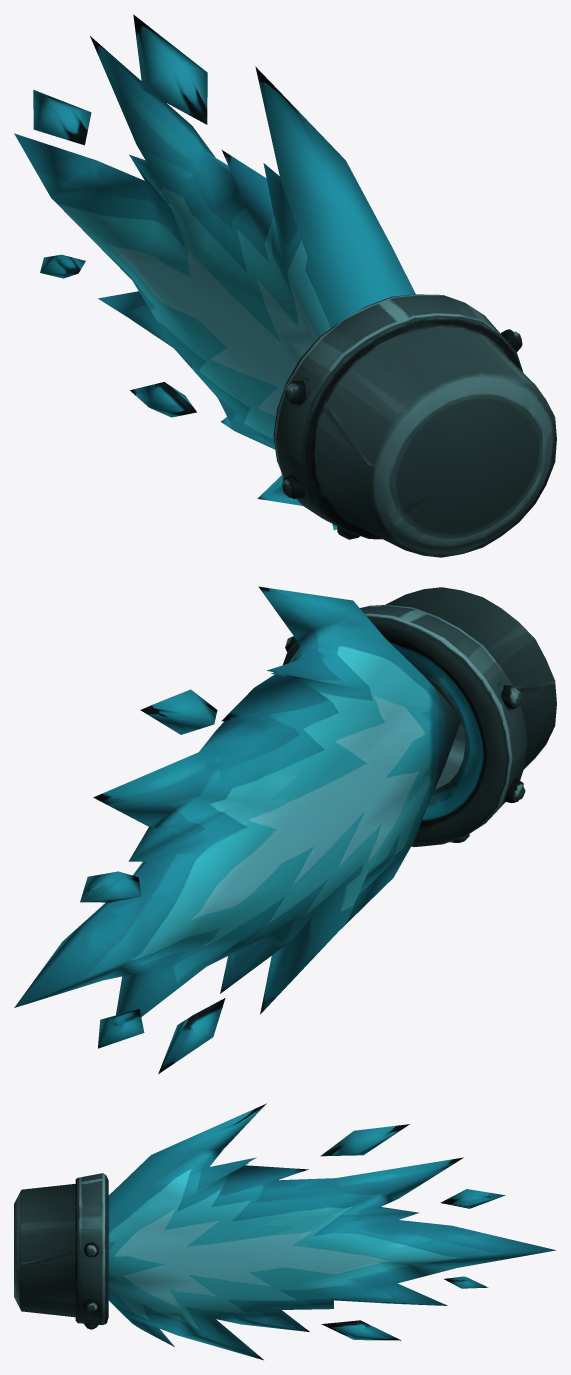
Rendered from nitro-cyan-b.glb.
3 renders of one model, top to bottom at view 1: azimuth 30°, elevation 25°; view 2: azimuth 150°, elevation 25°; view 3: azimuth 270°, elevation 25°, orthographic. The views are drawn at different scales.
Visible parts, largest first — view 1: tripo_node_f06f2010-b949-42cc-b337-643b00369439; view 2: tripo_node_f06f2010-b949-42cc-b337-643b00369439; view 3: tripo_node_f06f2010-b949-42cc-b337-643b00369439.
Part boxes in pixels (<box>): tripo_node_f06f2010-b949-42cc-b337-643b00369439: <box>14,14,556,557</box>; tripo_node_f06f2010-b949-42cc-b337-643b00369439: <box>14,586,556,1073</box>; tripo_node_f06f2010-b949-42cc-b337-643b00369439: <box>14,1103,555,1360</box>.
Bounding box in the file's own units: 0.32 × 0.5486 × 1.05.
Materials: 1 (1 with a texture image).
